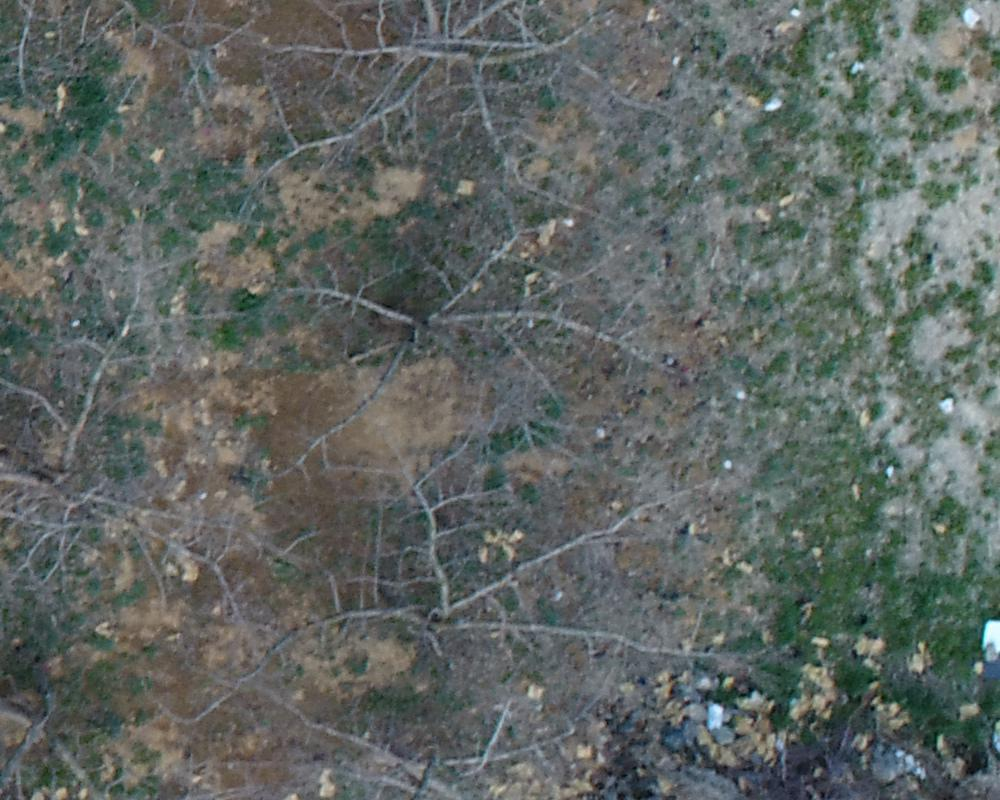apple: (258, 443, 760, 716), (10, 242, 275, 642), (269, 225, 707, 439), (247, 10, 687, 202)
